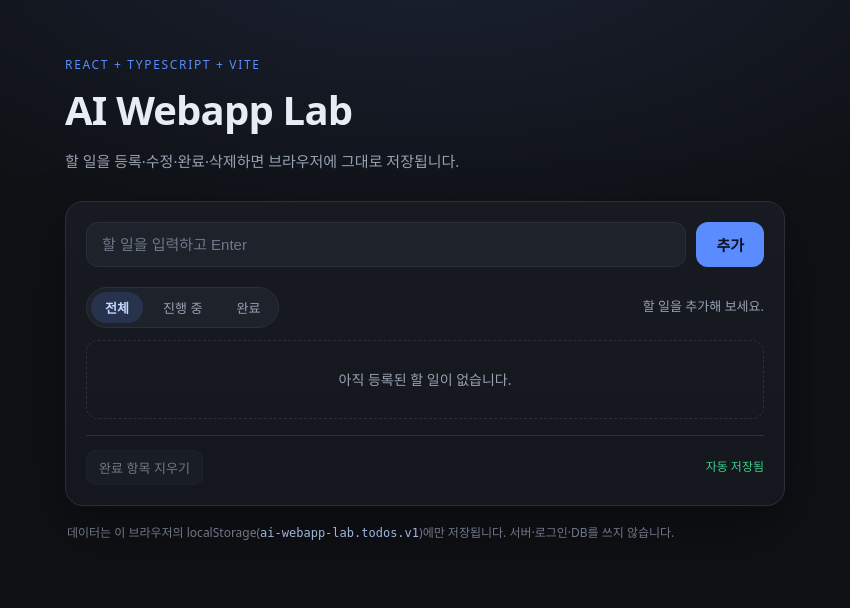
Test case: AI Webapp Lab — 할 일 관리 › 완료 항목 지우기로 완료된 것만 삭제한다
Type "남는 항목" into the field with test id "todo-input" at (386, 244), box [86,222,686,266]
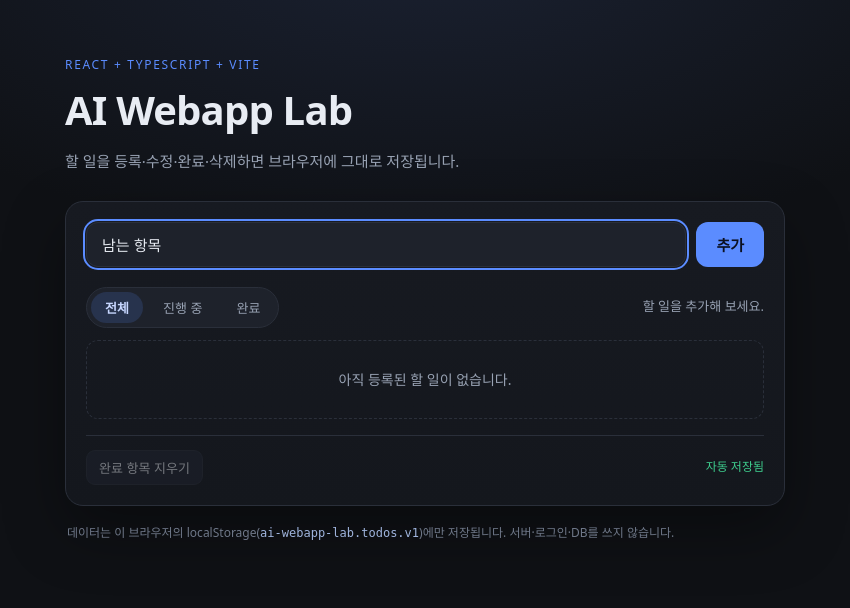
Click the button with test id "todo-add" at (730, 244), box [696,222,764,266]
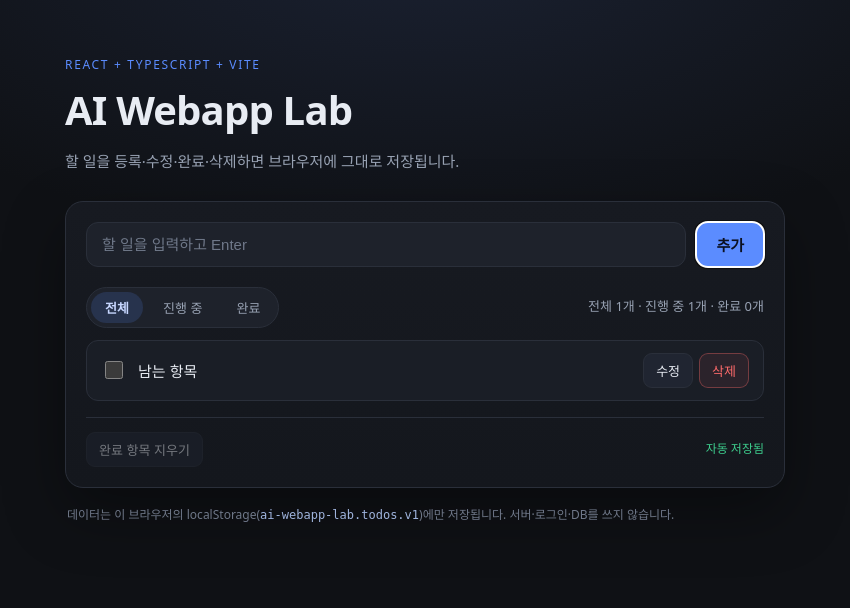
Type "지워질 항목" into the field with test id "todo-input" at (386, 244), box [86,222,686,266]
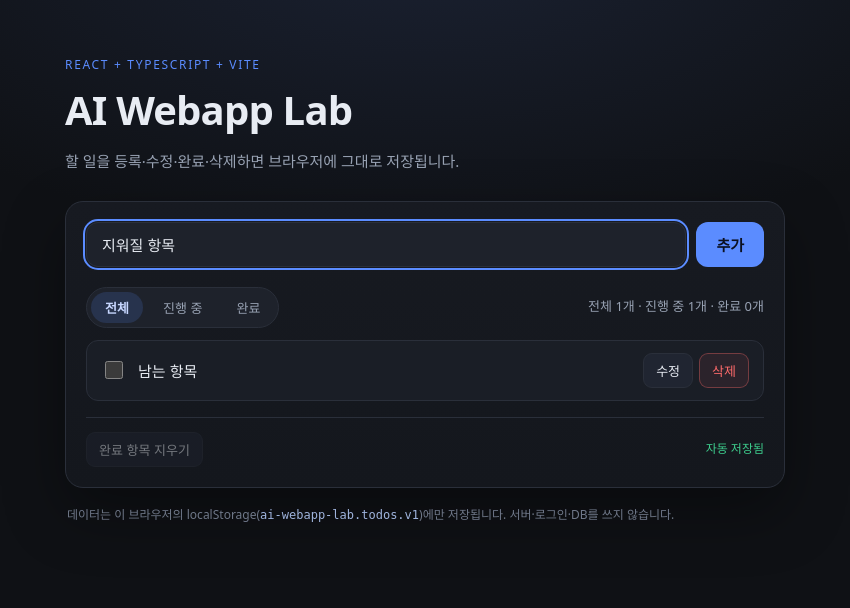
Click the button with test id "todo-add" at (730, 244), box [696,222,764,266]
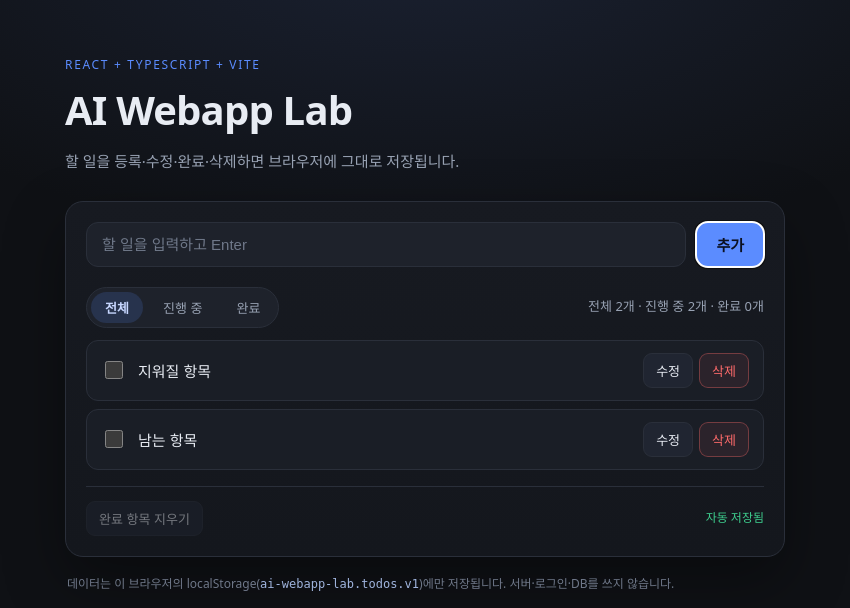
Click the 1st checkbox with test id "todo-toggle" at (114, 370), box [105,361,123,379]
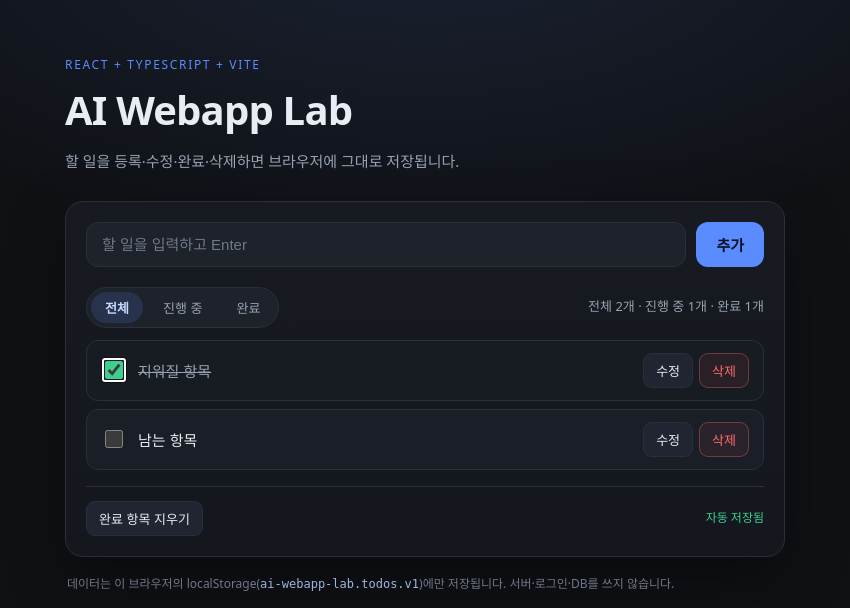
Click the button with test id "clear-completed" at (144, 518), box [86,500,203,536]
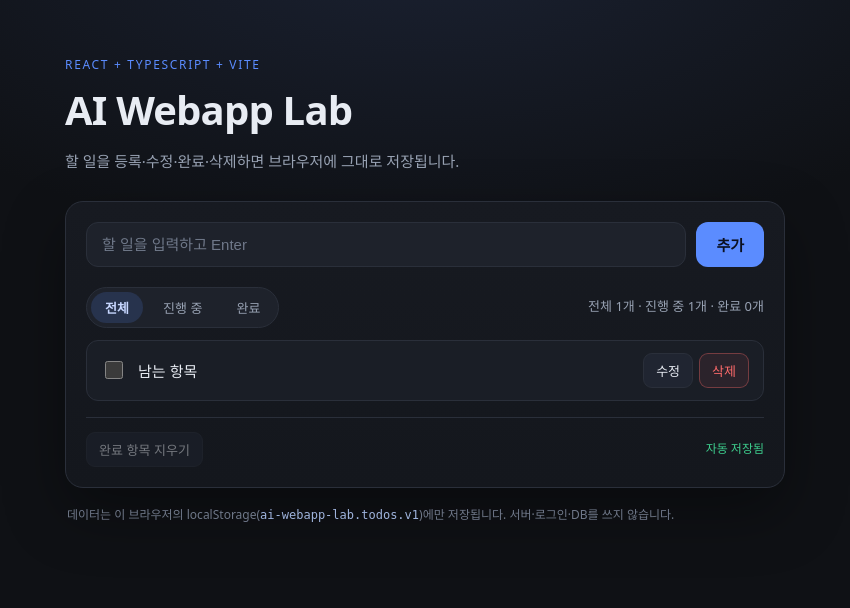
Expected: the button with test id "todo-title" reads "남는 항목", [138,360,631,380]
Expected: the button with test id "clear-completed" is disabled, [86,432,203,466]
